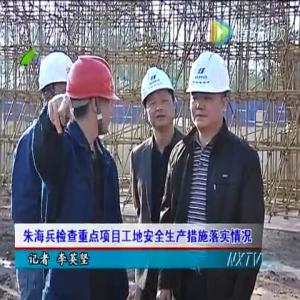red: (67, 54, 116, 139)
white: (187, 52, 230, 133), (141, 66, 177, 133), (39, 51, 75, 112)
